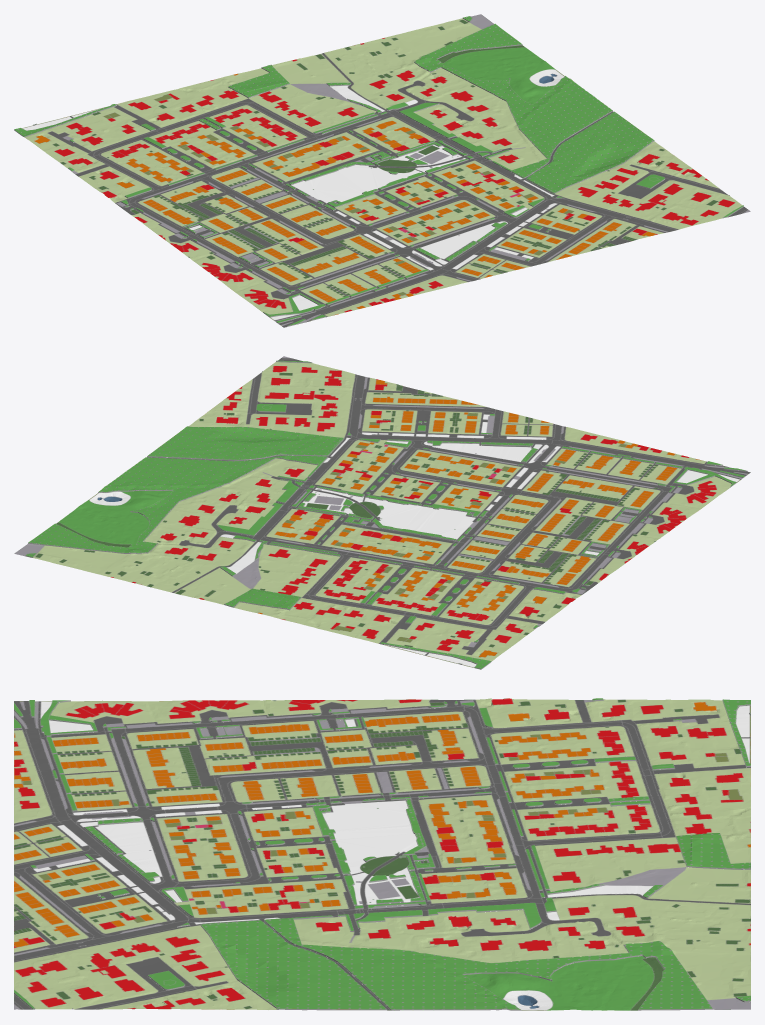
File: Terrain_Objects_DefaultScenario.fbx
3 renders of one model, top to bottom at view 1: azimuth 30°, elevation 25°; view 2: azimuth 150°, elevation 25°; view 3: azimuth 270°, elevation 25°, orthographic. The views are drawn at different scales.
Size of the model in its own units: 500 by 500 by 4.89.
1 material, 1 textured.
